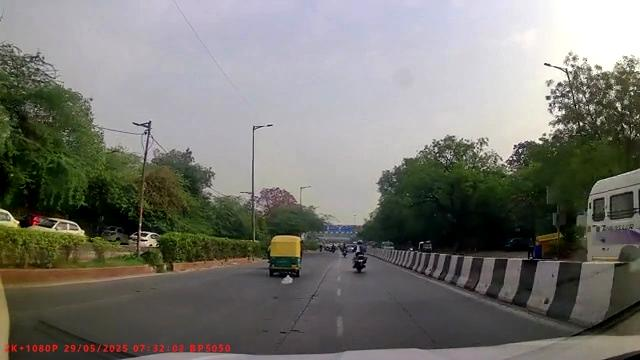motorcycle_with_helmet: (351, 239, 369, 273)
